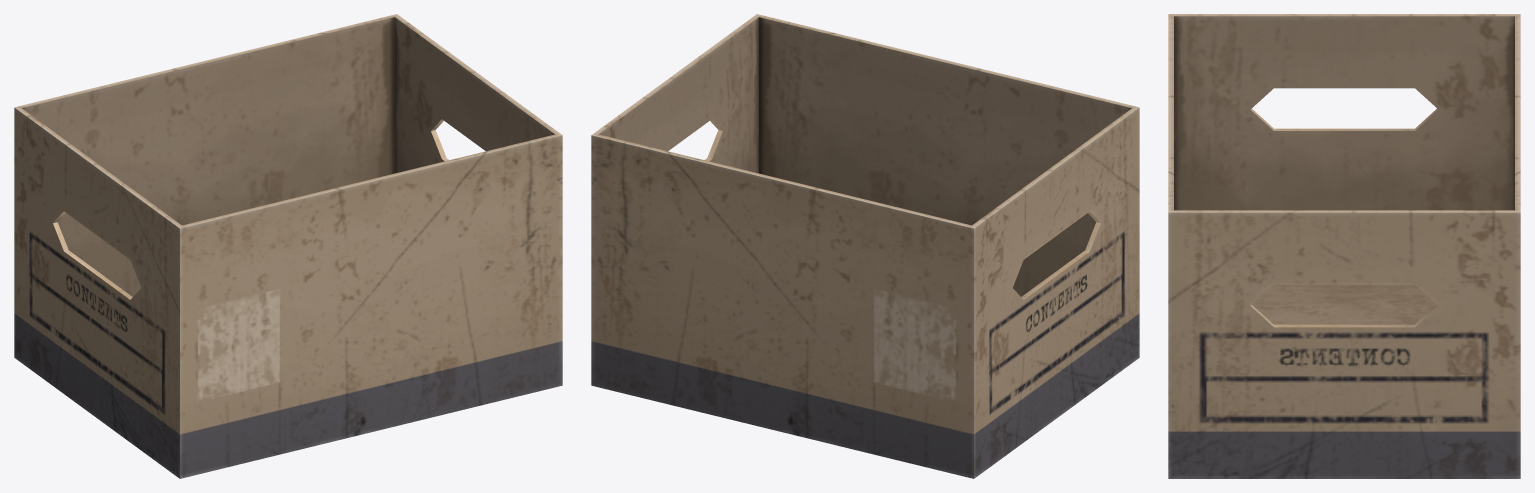
The model's file is fileBox01_A.fbx.
The picture shows the model from 3 angles, left to right: view 1: azimuth 30°, elevation 25°; view 2: azimuth 150°, elevation 25°; view 3: azimuth 270°, elevation 25°; orthographic projection. The views are drawn at different scales.
Parts seen in each view (by area): view 1: fileBox01_A; view 2: fileBox01_A; view 3: fileBox01_A.
Part boxes in pixels (left/top/right/bottom): fileBox01_A: left=14, top=14, right=562, bottom=478; fileBox01_A: left=591, top=14, right=1139, bottom=478; fileBox01_A: left=1168, top=14, right=1520, bottom=478.
Size of the model in its own units: 40 by 25 by 30.
